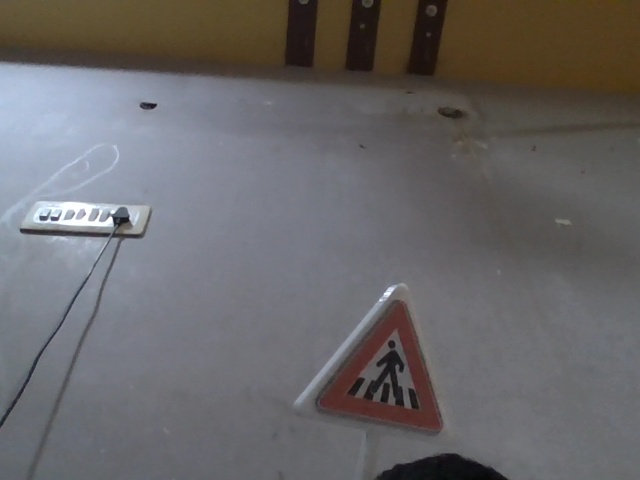crossing: (302, 288, 428, 429)
